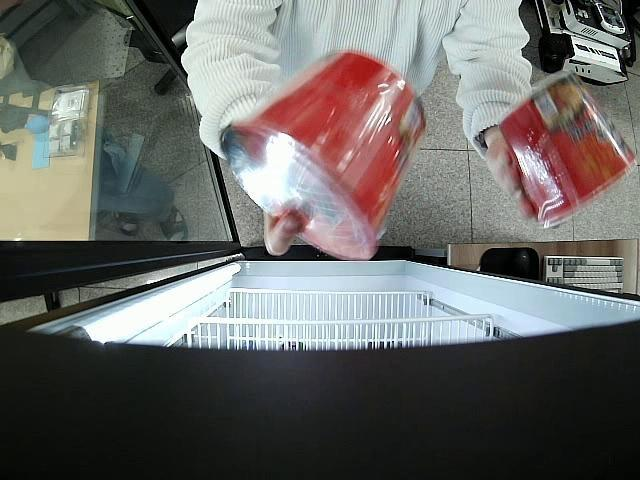01_ShinRamen_L: (217, 49, 428, 260), (494, 69, 640, 228)
